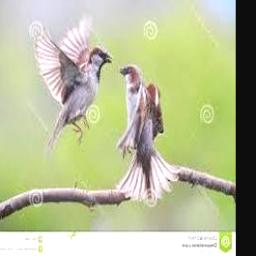Sparrow: (35, 20, 113, 154), (117, 65, 180, 205)
